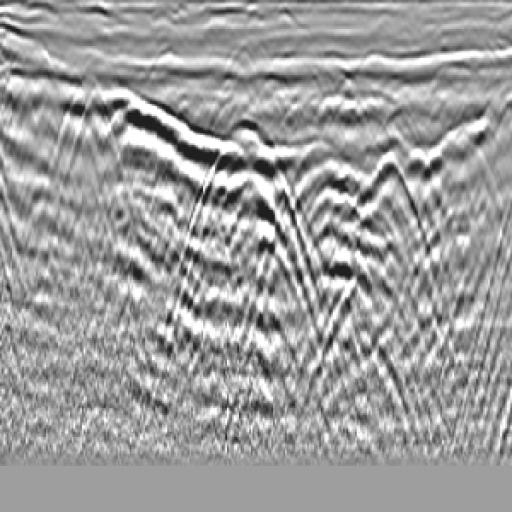metalic: (171, 92, 335, 356)
